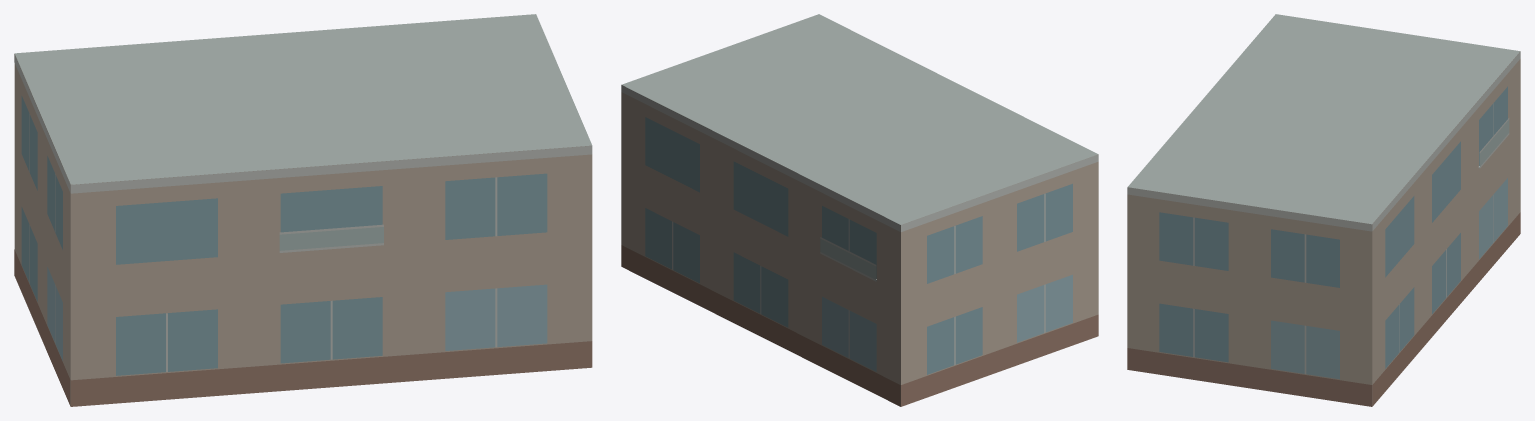
File: survey-upis-32712696.glb
3 views of the same model, side by side, from view 1: azimuth 30°, elevation 25°; view 2: azimuth 150°, elevation 25°; view 3: azimuth 270°, elevation 25° (orthographic). The views are drawn at different scales.
Parts seen in each view (by area): view 1: survey-upis-32712696.tmp; view 2: survey-upis-32712696.tmp; view 3: survey-upis-32712696.tmp.
Boxes of the visible parts, x1,y1,x2,y2 form: survey-upis-32712696.tmp: (14, 14, 592, 406); survey-upis-32712696.tmp: (621, 14, 1098, 406); survey-upis-32712696.tmp: (1127, 14, 1520, 406).
Size of the model in its own units: 15.08 by 6.1 by 11.91.
